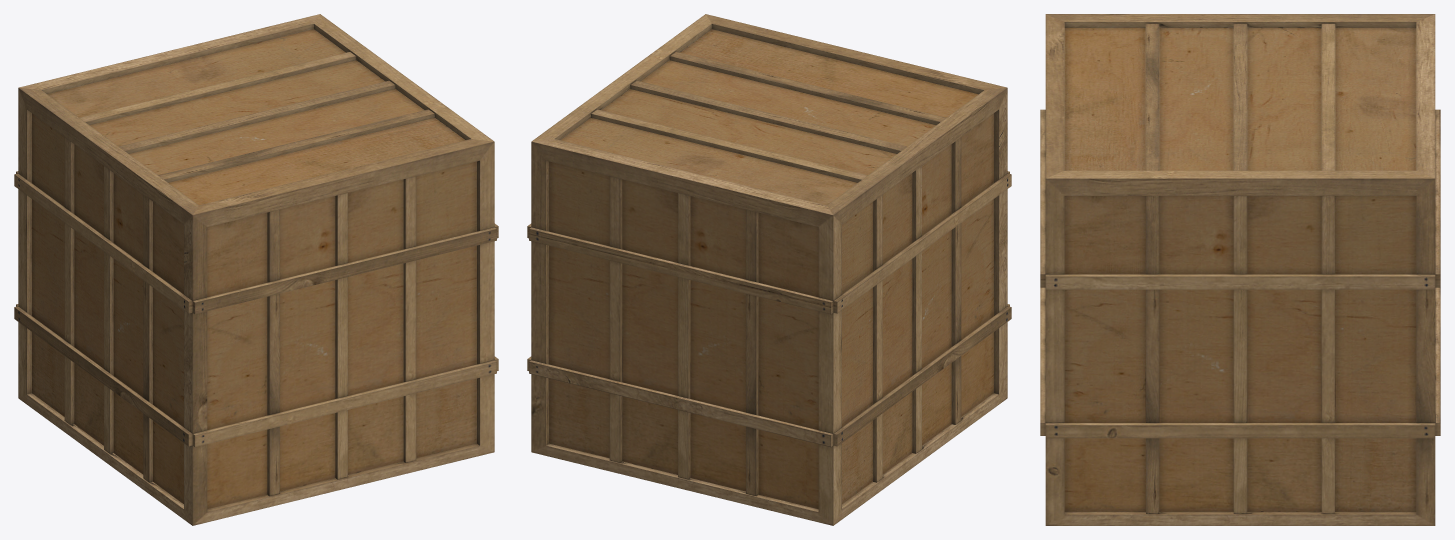
The model's file is obj_larger_resource_box_2c78d4.glb.
The picture shows the model from 3 angles, left to right: view 1: azimuth 30°, elevation 25°; view 2: azimuth 150°, elevation 25°; view 3: azimuth 270°, elevation 25°; orthographic projection. The views are drawn at different scales.
Parts seen in each view (by area): view 1: obj_larger_resource_box_2c78d4; view 2: obj_larger_resource_box_2c78d4; view 3: obj_larger_resource_box_2c78d4.
Part boxes in pixels (bbox=[...]): obj_larger_resource_box_2c78d4: bbox=[14, 14, 498, 525]; obj_larger_resource_box_2c78d4: bbox=[527, 14, 1011, 525]; obj_larger_resource_box_2c78d4: bbox=[1040, 14, 1440, 525].
Bounding box in the file's own units: 0.5 × 0.4787 × 0.5.
1 material, 1 textured.
